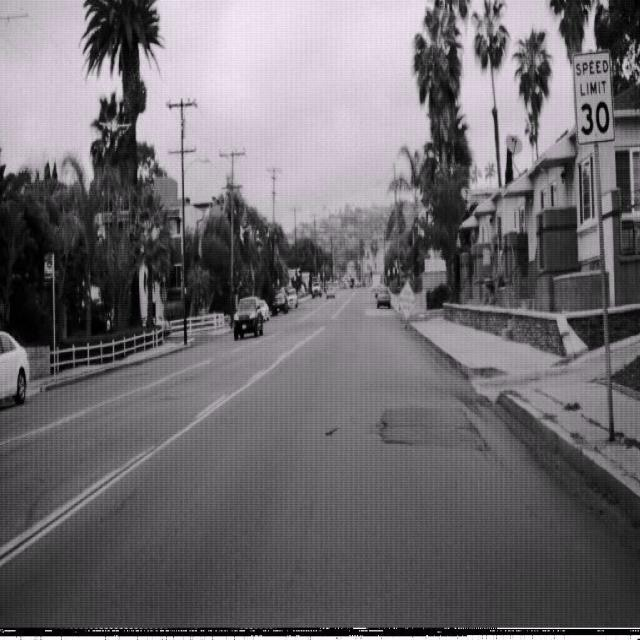speedLimit30: (573, 48, 615, 144)
